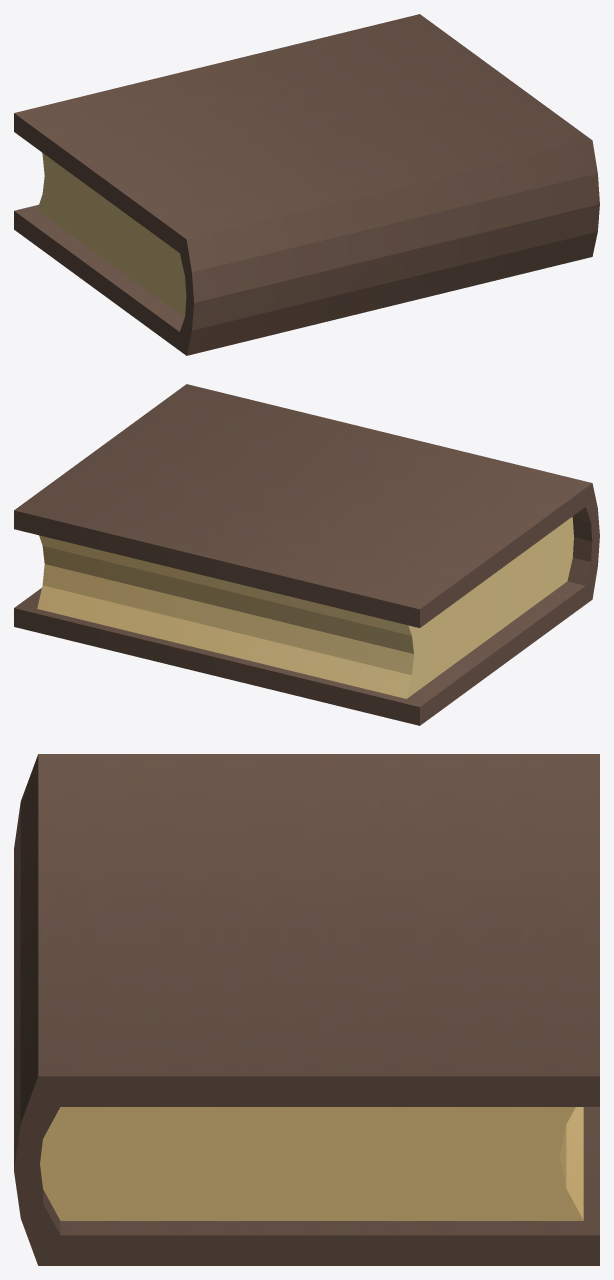
The model's file is Book_01.fbx.
3 renders of one model, top to bottom at view 1: azimuth 30°, elevation 25°; view 2: azimuth 150°, elevation 25°; view 3: azimuth 270°, elevation 25°, orthographic. The views are drawn at different scales.
Parts seen in each view (by area): view 1: Book_1; view 2: Book_1; view 3: Book_1.
Part boxes in pixels (x1=…): Book_1: x1=14, y1=14, x2=599, y2=355; Book_1: x1=14, y1=384, x2=599, y2=725; Book_1: x1=14, y1=754, x2=599, y2=1265.
Bounding box in the file's own units: 0.5154 × 0.1413 × 0.396.
